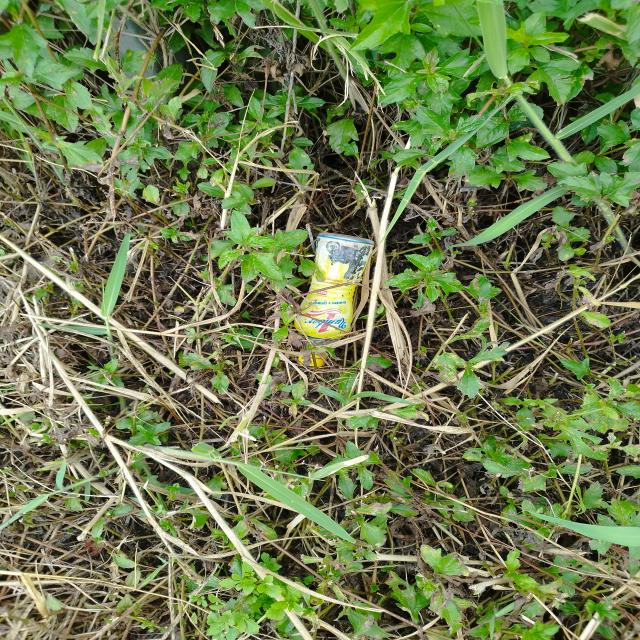bottle: (296, 233, 374, 367)
